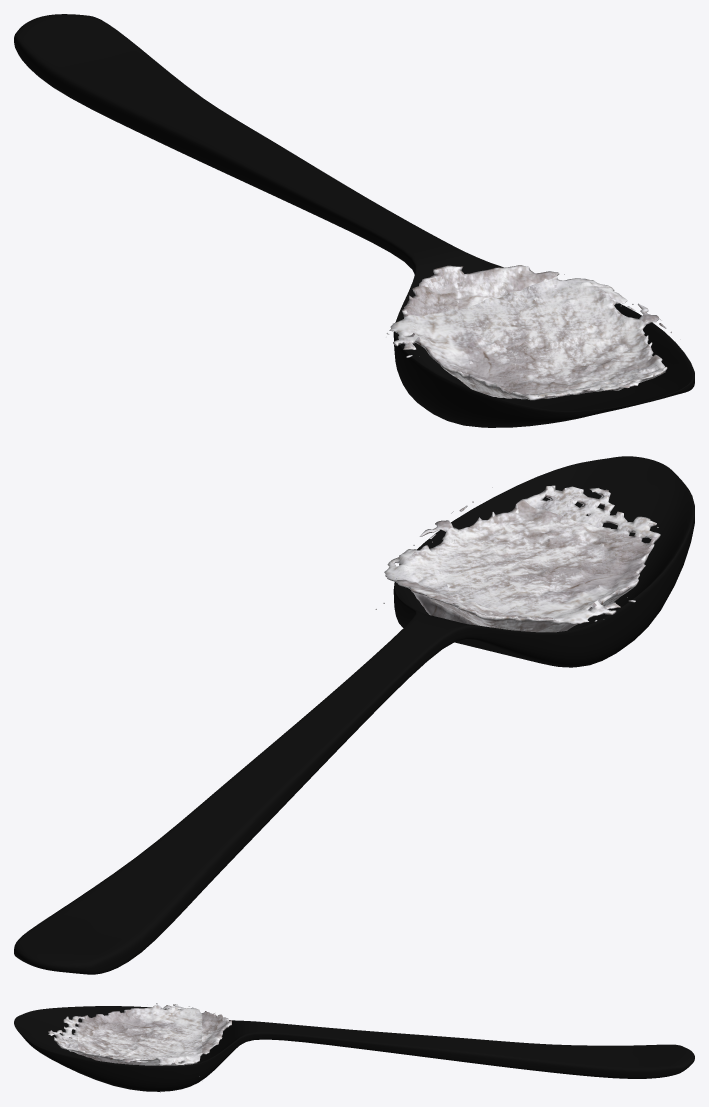
File: Spoon.fbx
The picture shows the model from 3 angles, top to bottom: view 1: azimuth 30°, elevation 25°; view 2: azimuth 150°, elevation 25°; view 3: azimuth 270°, elevation 25°; orthographic projection. The views are drawn at different scales.
Parts seen in each view (by area): view 1: SpoonLow2, Sphere001; view 2: SpoonLow2, Sphere001; view 3: SpoonLow2, Sphere001.
Part boxes in pixels (x1=…): SpoonLow2: x1=14, y1=14, x2=694, y2=427; Sphere001: x1=386, y1=265, x2=680, y2=400; SpoonLow2: x1=14, y1=456, x2=694, y2=974; Sphere001: x1=375, y1=485, x2=660, y2=632; SpoonLow2: x1=14, y1=1006, x2=694, y2=1091; Sphere001: x1=48, y1=1003, x2=231, y2=1092.
Size of the model in its own units: 9.23 by 3.09 by 42.38.
Materials: 2 (1 with a texture image).
